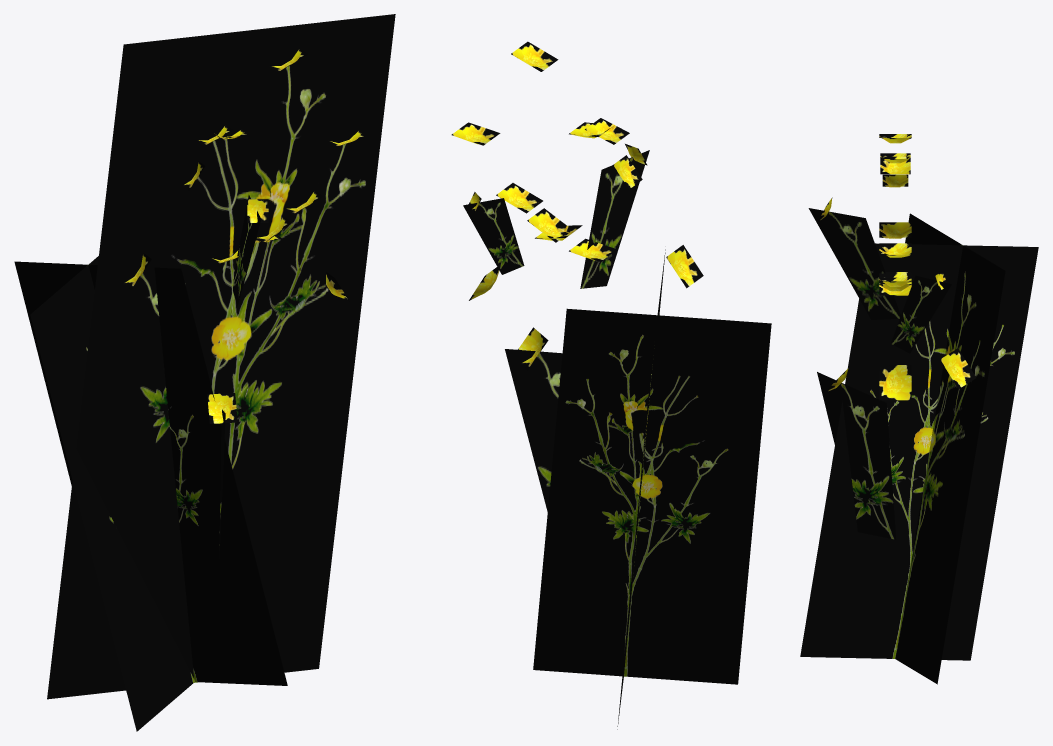
The model's file is 13_Ranunculus_acris_big_001.fbx.
The picture shows the model from 3 angles, left to right: view 1: azimuth 30°, elevation 25°; view 2: azimuth 150°, elevation 25°; view 3: azimuth 270°, elevation 25°; orthographic projection. The views are drawn at different scales.
Parts seen in each view (by area): view 1: 13_Ranunculus_acris_big.001; view 2: 13_Ranunculus_acris_big.001; view 3: 13_Ranunculus_acris_big.001.
Part boxes in pixels (left/top/right/bottom): 13_Ranunculus_acris_big.001: left=14, top=14, right=395, bottom=731; 13_Ranunculus_acris_big.001: left=451, top=41, right=771, bottom=729; 13_Ranunculus_acris_big.001: left=800, top=134, right=1038, bottom=684.
Bounding box in the file's own units: 0.1604 × 0.2884 × 0.099.
